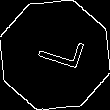L_W: (26, 32, 84, 78)
